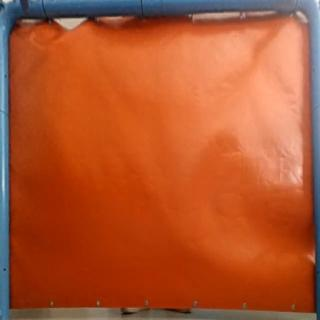Hit-hRxx: (31, 23, 47, 38)
